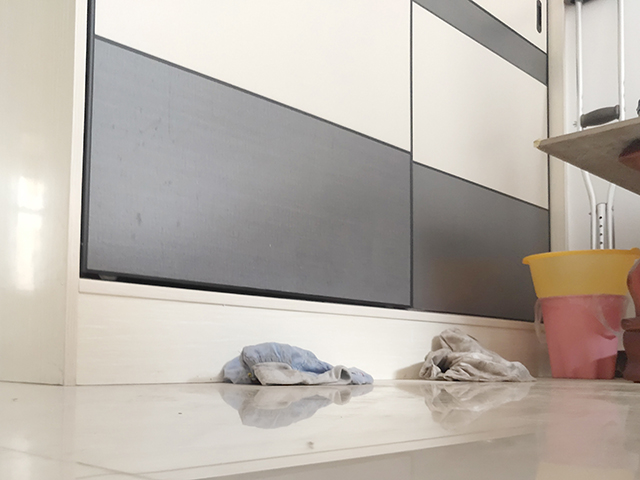cabinet: (1, 1, 575, 389)
socks: (218, 340, 374, 388), (417, 326, 538, 384)
table: (531, 114, 640, 384)
trashcan: (536, 292, 632, 382)
